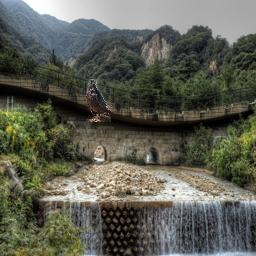Crow: (87, 80, 112, 123)
